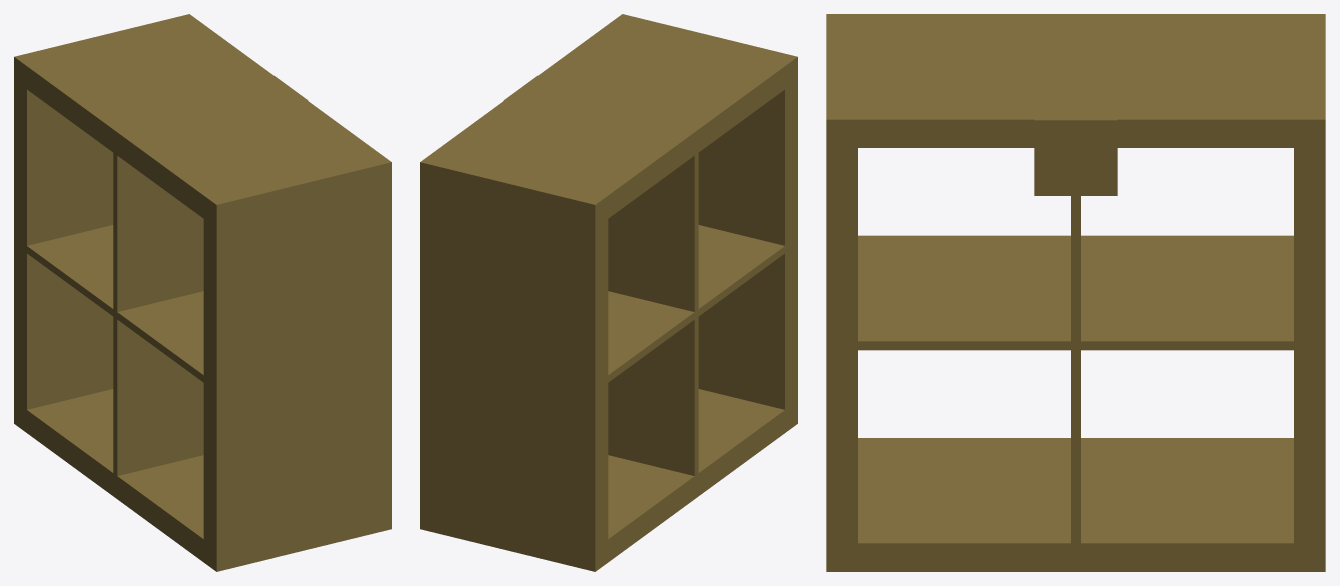
The model's file is IKEA_shelf.dae.
The picture shows the model from 3 angles, left to right: view 1: azimuth 30°, elevation 25°; view 2: azimuth 150°, elevation 25°; view 3: azimuth 270°, elevation 25°; orthographic projection. The views are drawn at different scales.
Parts seen in each view (by area): view 1: IKEAShelf_mesh; view 2: IKEAShelf_mesh; view 3: IKEAShelf_mesh.
Part boxes in pixels (left/top/right/bottom): IKEAShelf_mesh: left=14, top=14, right=391, bottom=571; IKEAShelf_mesh: left=420, top=14, right=797, bottom=571; IKEAShelf_mesh: left=826, top=14, right=1325, bottom=571.
Bounding box in the file's own units: 0.3977 × 0.79 × 0.79.
